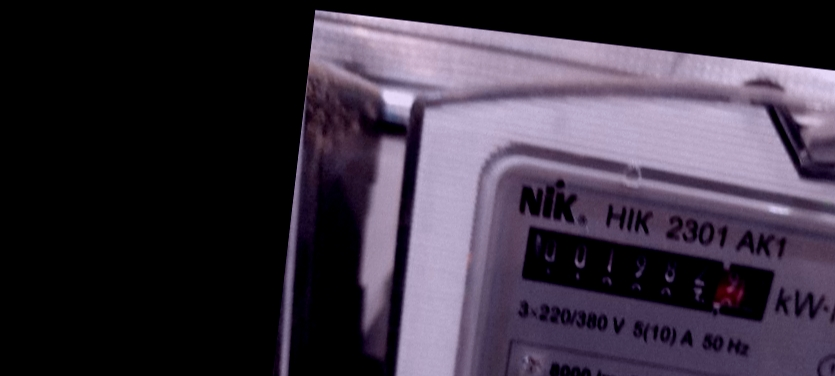0: (571, 241, 591, 272), (542, 235, 561, 265)
1: (603, 245, 618, 275)
2: (692, 258, 713, 289)
8: (662, 256, 681, 285)
9: (722, 268, 745, 298), (631, 251, 650, 282)
screen: (502, 211, 793, 339)
